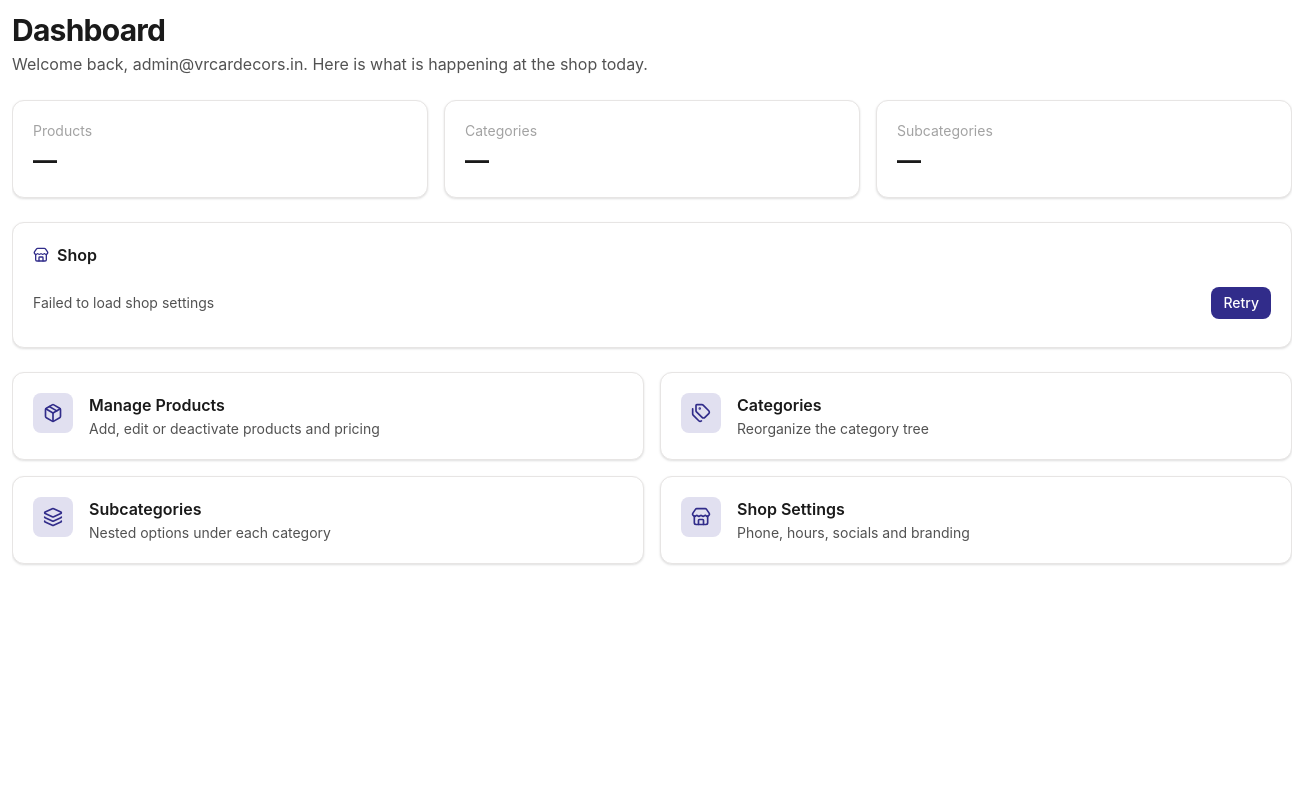
Test case: DashboardPage › shows an error state with Retry that reloads settings
Expected: the message shows "Failed to load shop settings", [33,294,214,311]
Click the button "Retry".
click(1241, 303)  # box [1211,287,1271,319]
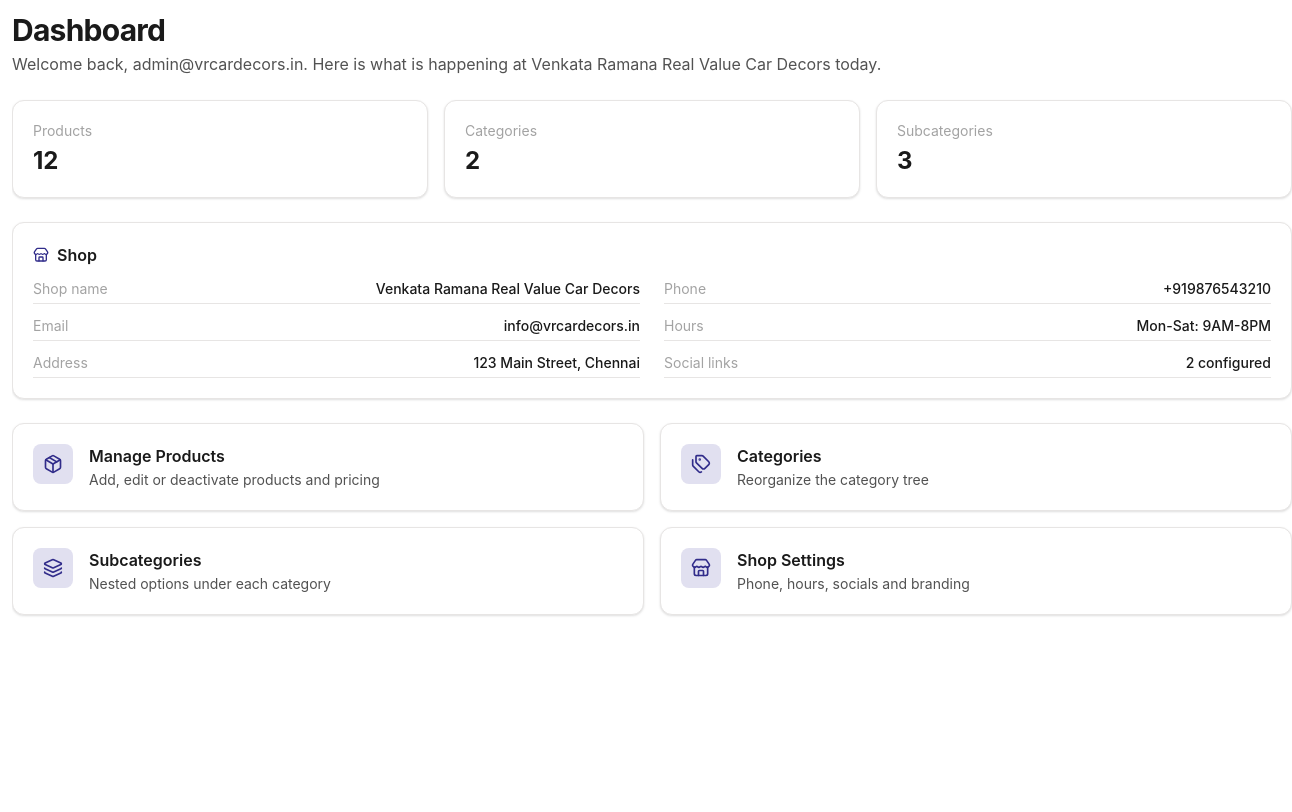
Now the text "Venkata Ramana Real Value Car Decors" is shown, box [376,279,640,299]
